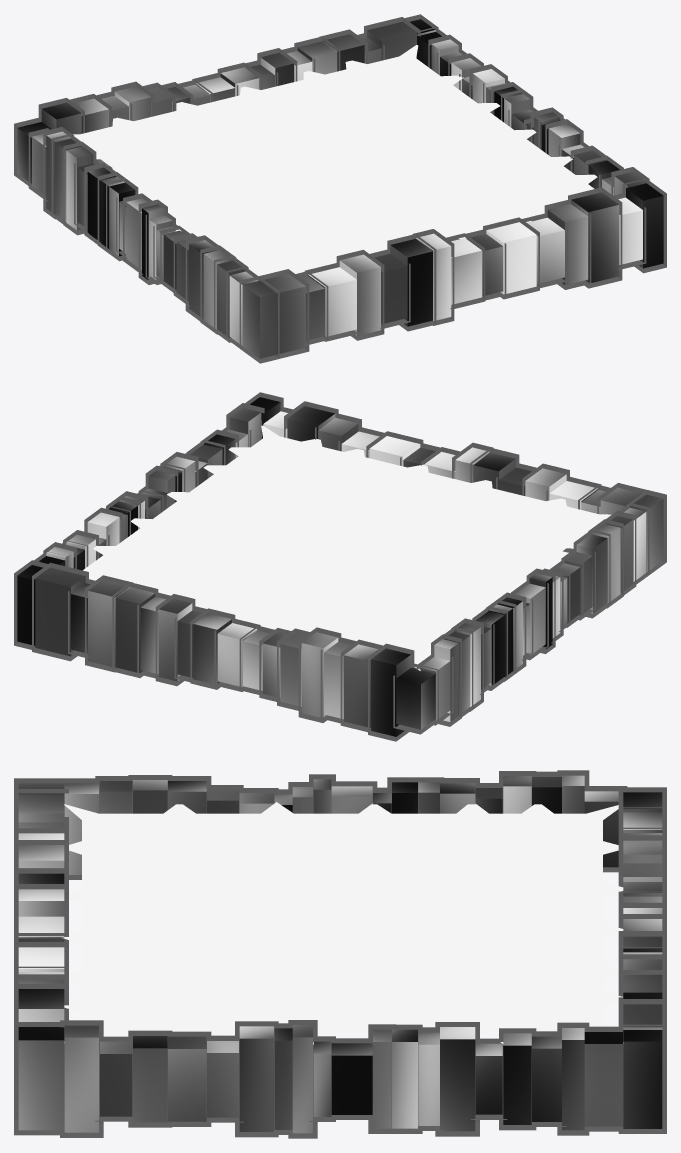
Rendered from Boinger.glb.
3 renders of one model, top to bottom at view 1: azimuth 30°, elevation 25°; view 2: azimuth 150°, elevation 25°; view 3: azimuth 270°, elevation 25°, orthographic. The views are drawn at different scales.
Visible parts, largest first — view 1: Plane; view 2: Plane; view 3: Plane.
Part boxes in pixels (x1,y1,x2,y2): Plane: (14,14,666,363); Plane: (14,392,666,741); Plane: (14,770,666,1138).
Bounding box in the file's own units: 14.5 × 2.7 × 15.21.
3 materials, 1 textured.
